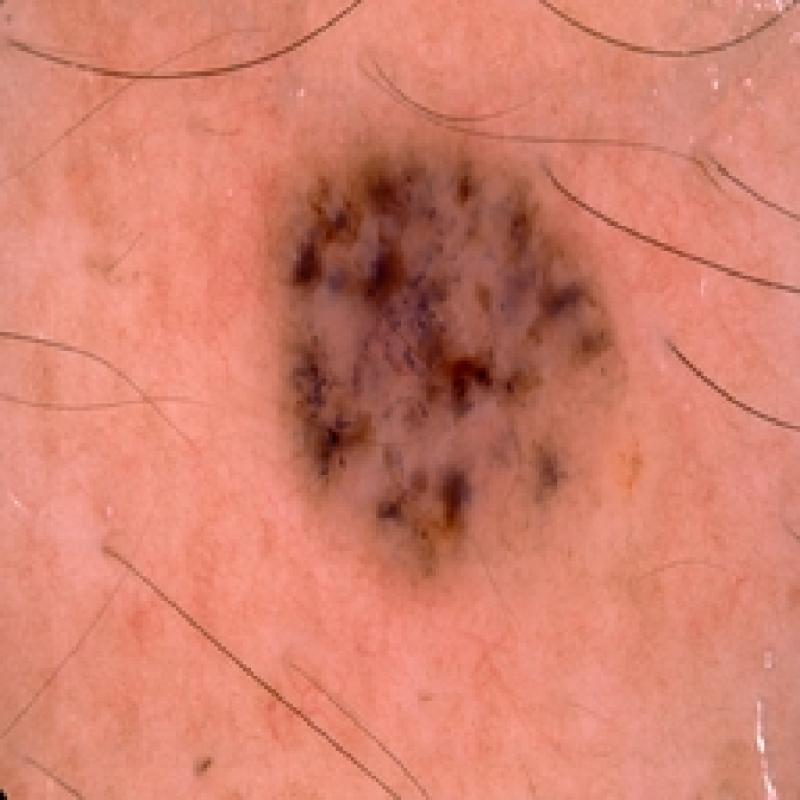malignant: (253, 125, 649, 583)
